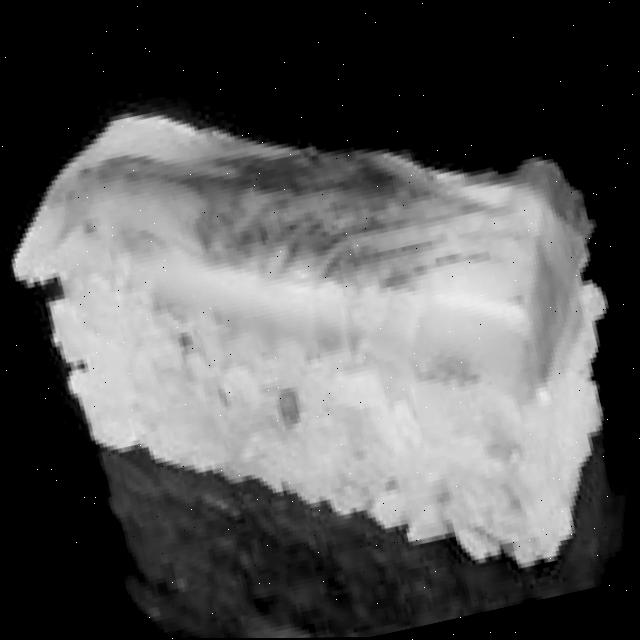寿司卷物: (0, 16, 640, 640)
